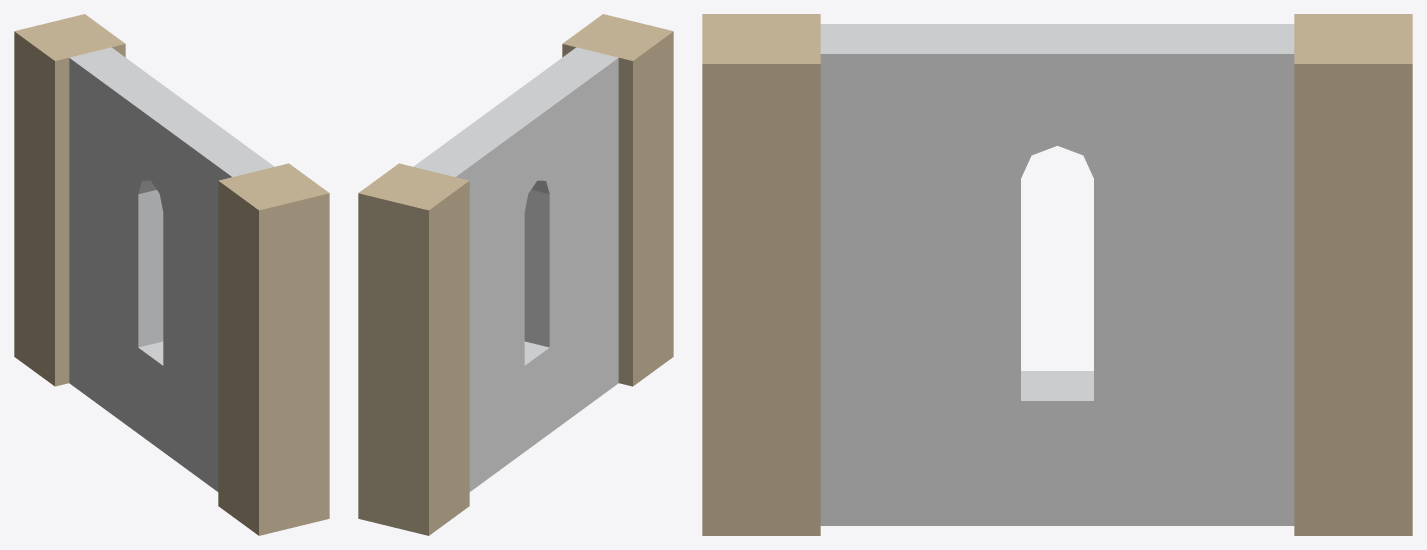
The model's file is Wood_Window_Narrow_01.glb.
The picture shows the model from 3 angles, left to right: view 1: azimuth 30°, elevation 25°; view 2: azimuth 150°, elevation 25°; view 3: azimuth 270°, elevation 25°; orthographic projection. The views are drawn at different scales.
Visible parts, largest first — view 1: Mesh1 Wood_Window_Narrow Model; view 2: Mesh1 Wood_Window_Narrow Model; view 3: Mesh1 Wood_Window_Narrow Model.
Part boxes in pixels (x1,y1,x2,y2): Mesh1 Wood_Window_Narrow Model: [14, 14, 329, 535]; Mesh1 Wood_Window_Narrow Model: [358, 14, 673, 535]; Mesh1 Wood_Window_Narrow Model: [702, 14, 1412, 535].
Bounding box in the file's own units: 0.5 × 2.2 × 3.
